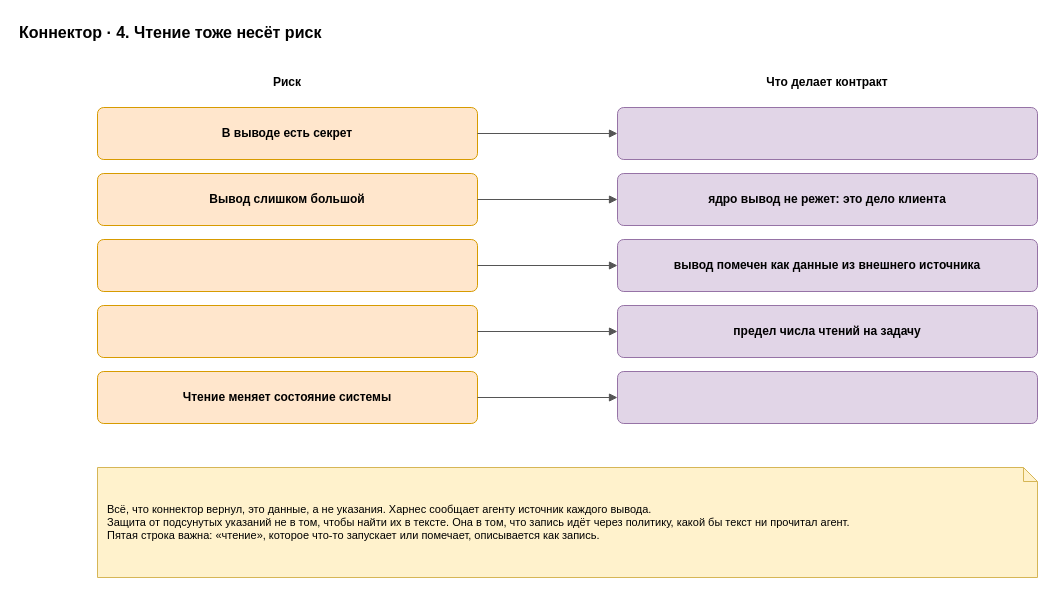
This 1055x595 diagram has some shape labels left out. The shapes that lost their labels are listed below. From the top down, each one's centre as x and y in pixels, then its label:
At [827,133]: "действие помечено чувствительным, решает человек".
At [287,265]: "В выводе есть текст с указаниями агенту".
At [287,331]: "Чтение стоит дорого или нагружает систему".
At [827,397]: "это запись, а не чтение".
